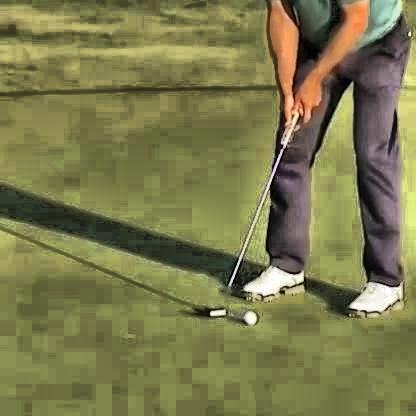golfball: (242, 307, 255, 320)
